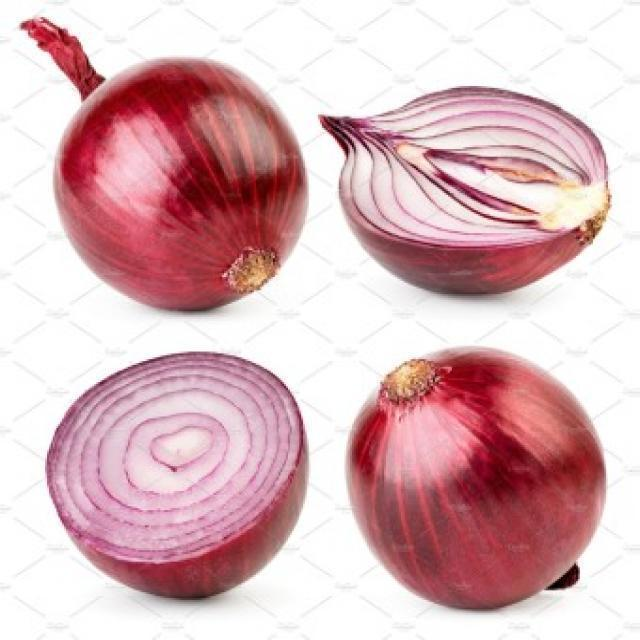Onion: (20, 14, 307, 314), (349, 348, 607, 609), (40, 350, 309, 599), (318, 85, 611, 291)
